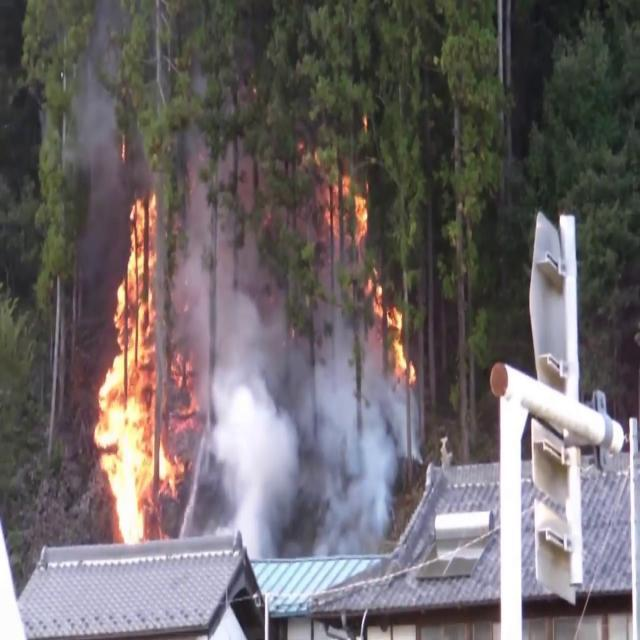Fire: (86, 178, 182, 540), (328, 158, 379, 269), (378, 283, 418, 392)
Smoke: (173, 215, 410, 586)
